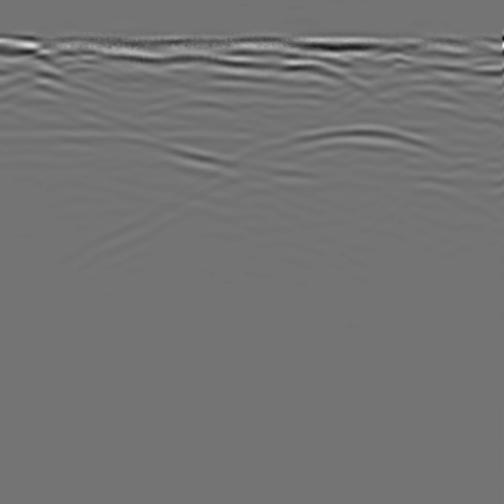hyperbola: (220, 113, 488, 249)
